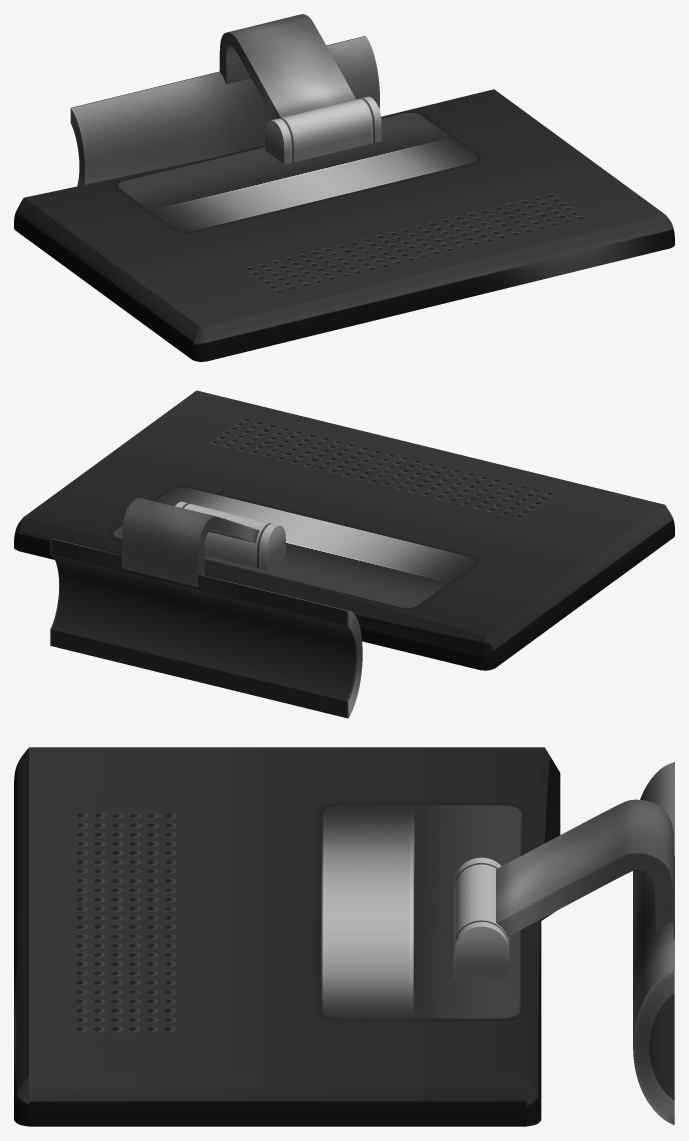
The model's file is Monitor.dae.
The picture shows the model from 3 angles, top to bottom: view 1: azimuth 30°, elevation 25°; view 2: azimuth 150°, elevation 25°; view 3: azimuth 270°, elevation 25°; orthographic projection. The views are drawn at different scales.
Parts seen in each view (by area): view 1: 10120_LCD_Computer_Monitor_v01; view 2: 10120_LCD_Computer_Monitor_v01; view 3: 10120_LCD_Computer_Monitor_v01.
Boxes of the visible parts, x1,y1,x2,y2 form: 10120_LCD_Computer_Monitor_v01: (14, 14, 674, 361); 10120_LCD_Computer_Monitor_v01: (14, 390, 674, 718); 10120_LCD_Computer_Monitor_v01: (14, 747, 674, 1126).
Bounding box in the file's own units: 43.9 × 13.3 × 35.9.
1 material, 1 textured.
